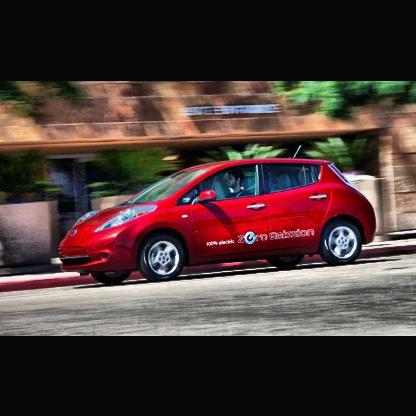Nissan Leaf Hatchback 2012: (57, 146, 377, 285)
